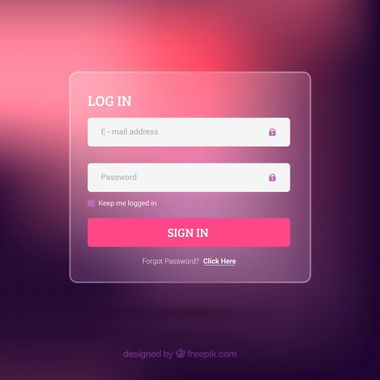_form_: (1, 1, 380, 380)
button: (86, 216, 293, 247)
checkbox: (86, 199, 95, 209)
checkbox_with_label: (84, 197, 158, 210)
field: (86, 162, 290, 193), (86, 118, 290, 147)
